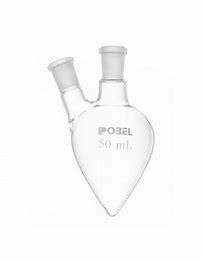Pear shaped flask: (45, 46, 164, 219)
